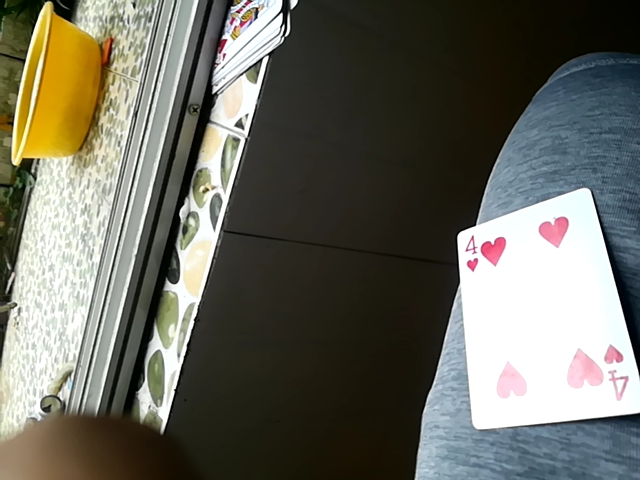hx 4: (449, 182, 633, 426)
